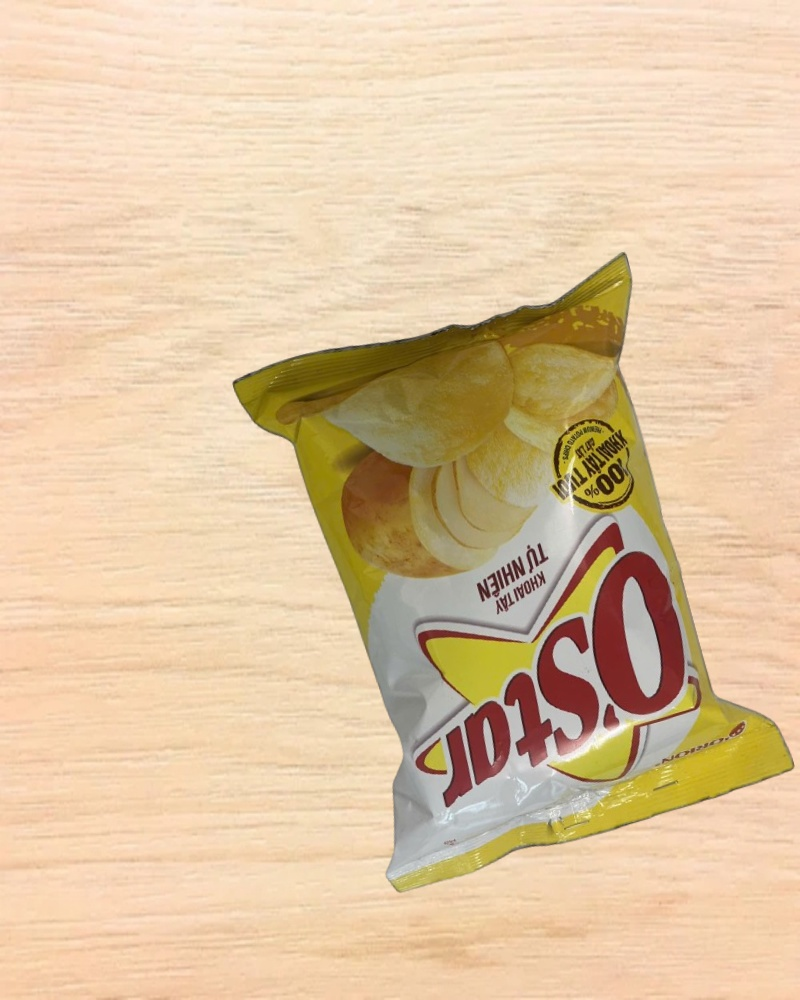Snack cua: (233, 251, 796, 893)
